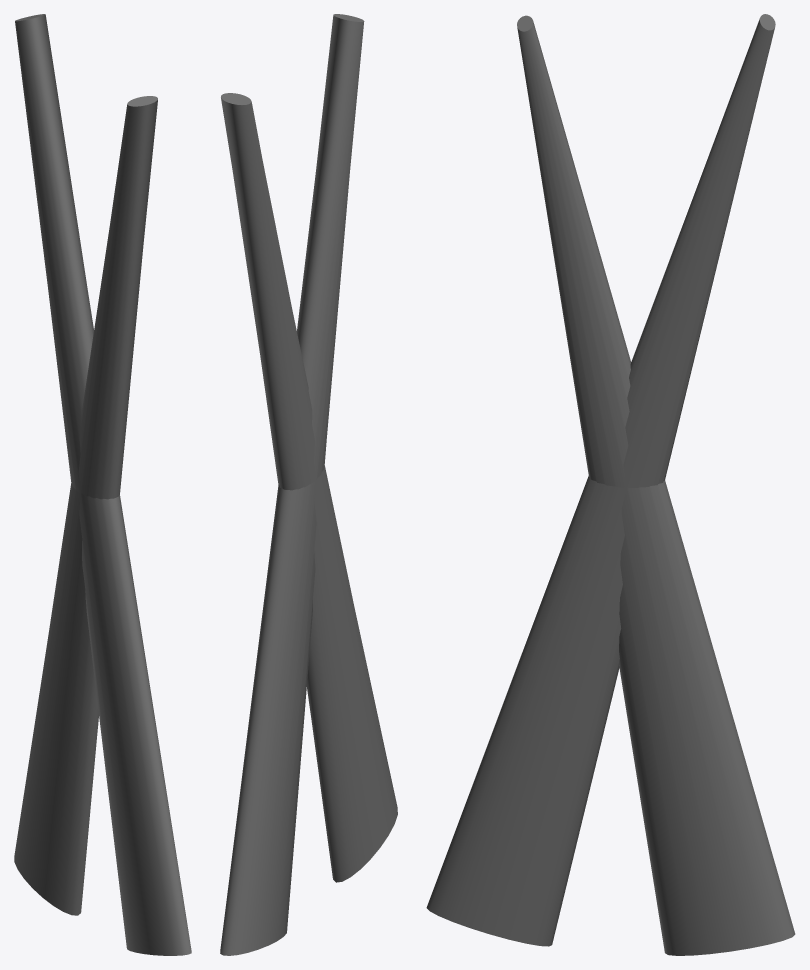
File: Scissors.fbx
The picture shows the model from 3 angles, left to right: view 1: azimuth 30°, elevation 25°; view 2: azimuth 150°, elevation 25°; view 3: azimuth 270°, elevation 25°; orthographic projection. The views are drawn at different scales.
Parts seen in each view (by area): view 1: Tool_3; view 2: Tool_3; view 3: Tool_3.
Part boxes in pixels (x1=…): Tool_3: x1=14, y1=14, x2=191, y2=955; Tool_3: x1=220, y1=14, x2=397, y2=955; Tool_3: x1=426, y1=14, x2=795, y2=955.
Bounding box in the file's own units: 0.00669 × 0.1846 × 0.0661.
1 material, 1 textured.
